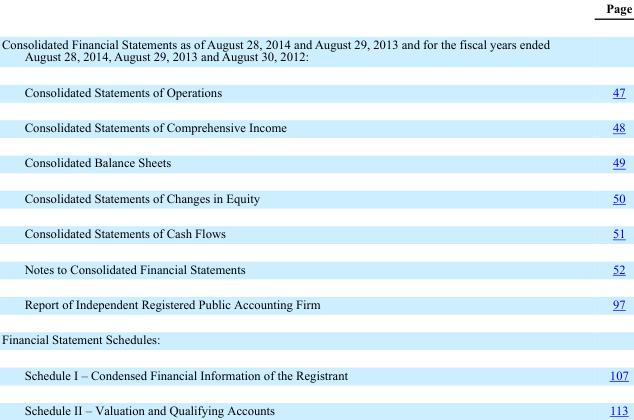table: (0, 0, 631, 416)
table column: (0, 0, 476, 416), (476, 0, 631, 416)
table column header: (0, 0, 631, 25)
table projected row header: (0, 25, 631, 73), (0, 321, 631, 356)
table row: (0, 25, 631, 73), (0, 73, 631, 109), (0, 179, 631, 215), (0, 285, 631, 321), (0, 356, 631, 392), (0, 109, 631, 144), (0, 144, 631, 179), (0, 215, 631, 250), (0, 250, 631, 285), (0, 321, 631, 356), (0, 0, 631, 25), (0, 392, 631, 416)
